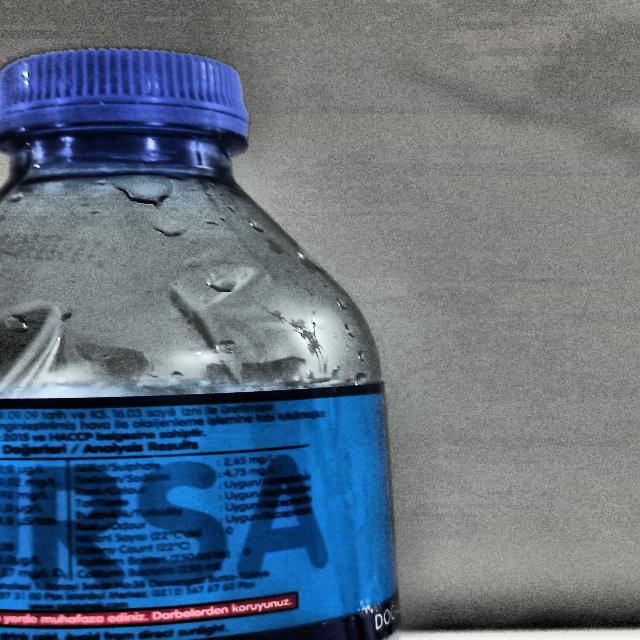plastic: (0, 38, 401, 640)
